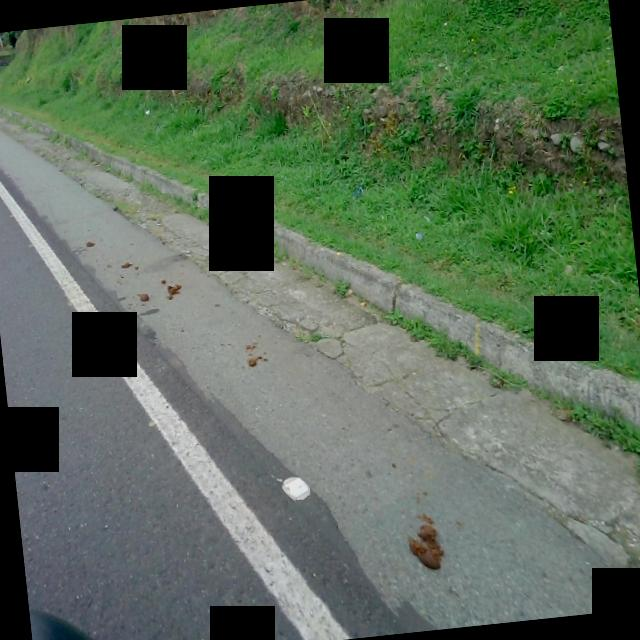DITCH: (0, 39, 640, 640), (0, 77, 640, 640)
